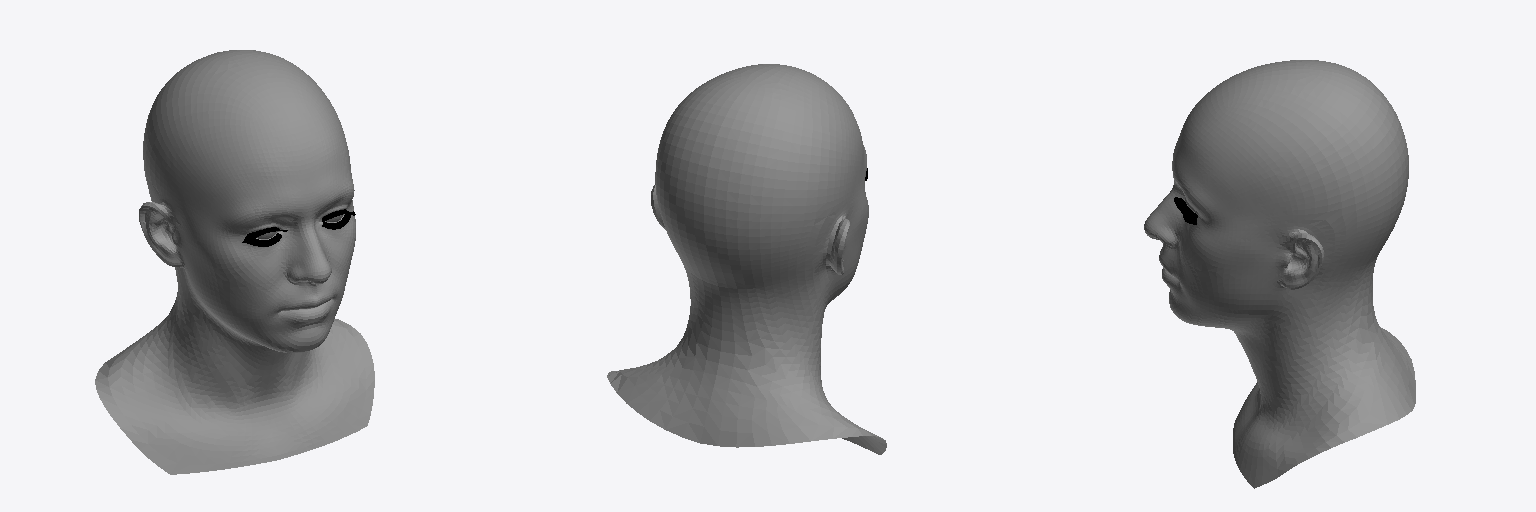
Rendered from identity060.obj.
3 renders of one model, left to right at view 1: azimuth 30°, elevation 25°; view 2: azimuth 150°, elevation 25°; view 3: azimuth 270°, elevation 25°, orthographic.
Size of the model in its own units: 24.83 by 33.81 by 22.33.